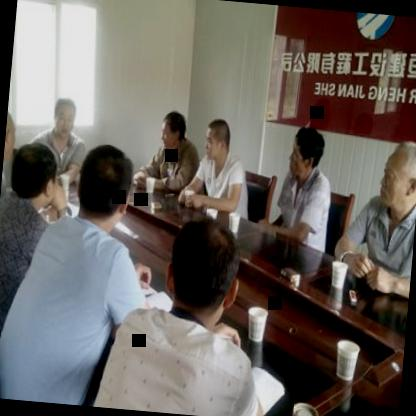head: (162, 210, 246, 327), (70, 138, 138, 234), (7, 140, 65, 216), (374, 136, 416, 222), (287, 122, 328, 184), (203, 113, 235, 172), (49, 94, 81, 140), (158, 106, 188, 154), (2, 103, 20, 171)
